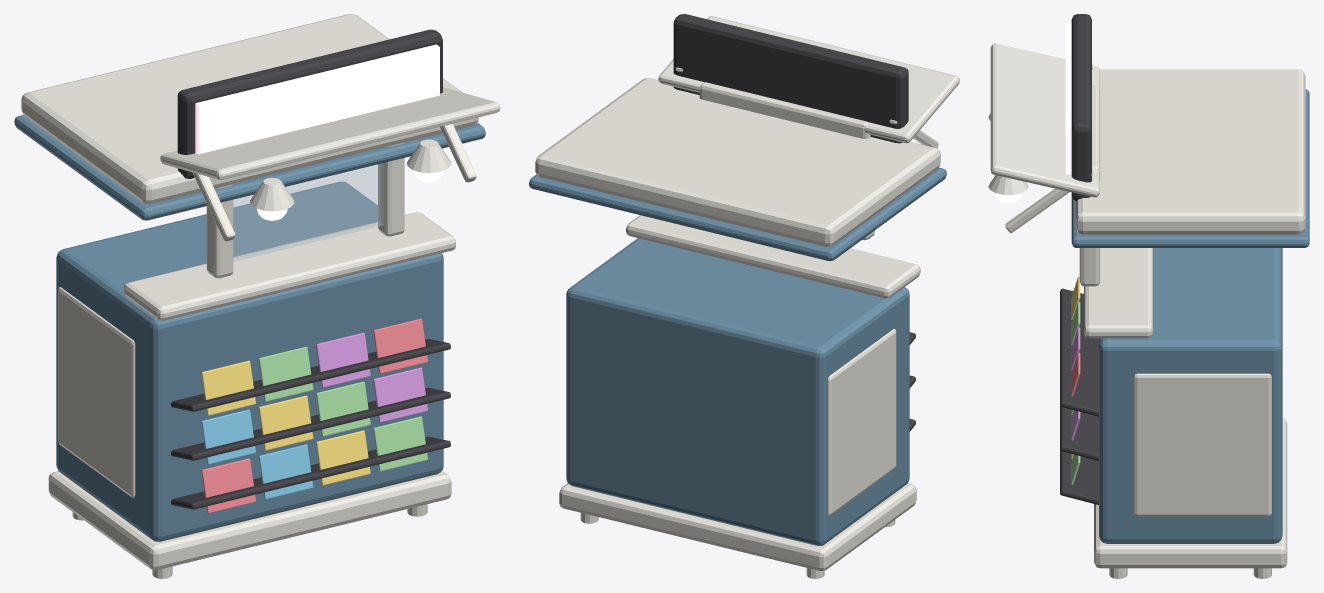
The model's file is prop_newsstand.glb.
The picture shows the model from 3 angles, left to right: view 1: azimuth 30°, elevation 25°; view 2: azimuth 150°, elevation 25°; view 3: azimuth 270°, elevation 25°; orthographic projection. The views are drawn at different scales.
Visible parts, largest first — view 1: prop_newsstand_cabinet, prop_newsstand_roof, prop_newsstand_counter, prop_newsstand_sign_face, prop_newsstand_side_panel_l, prop_newsstand_plinth, prop_newsstand_awning, prop_newsstand_hatch_glass, prop_newsstand_fascia, prop_newsstand_sign_box, prop_newsstand_shelf_0, prop_newsstand_shelf_1 (+19 smaller); view 2: prop_newsstand_cabinet, prop_newsstand_roof, prop_newsstand_sign_box, prop_newsstand_side_panel_l, prop_newsstand_plinth, prop_newsstand_counter, prop_newsstand_fascia, prop_newsstand_awning, prop_newsstand_hatch_head; view 3: prop_newsstand_roof, prop_newsstand_cabinet, prop_newsstand_side_panel_r, prop_newsstand_awning, prop_newsstand_plinth, prop_newsstand_counter, prop_newsstand_fascia, prop_newsstand_sign_box, prop_newsstand_shelf_2, prop_newsstand_shelf_0, prop_newsstand_shelf_1, prop_newsstand_sign_face (+4 smaller).
Boxes of the visible parts, x1,y1,x2,y2 form: prop_newsstand_cabinet: (56,181,443,541); prop_newsstand_roof: (21,14,478,204); prop_newsstand_counter: (124,212,455,320); prop_newsstand_sign_face: (195,44,439,154); prop_newsstand_side_panel_l: (58,287,135,497); prop_newsstand_plinth: (48,470,451,569); prop_newsstand_awning: (160,87,500,179); prop_newsstand_hatch_glass: (233,163,383,261); prop_newsstand_fascia: (14,115,485,220); prop_newsstand_sign_box: (177,29,442,178); prop_newsstand_shelf_0: (171,436,450,509); prop_newsstand_shelf_1: (171,387,450,460); prop_newsstand_cabinet: (566,238,909,545); prop_newsstand_roof: (535,78,940,246); prop_newsstand_sign_box: (673,14,908,143); prop_newsstand_side_panel_l: (828,329,896,515); prop_newsstand_plinth: (559,483,916,570); prop_newsstand_counter: (626,215,920,298); prop_newsstand_fascia: (529,167,946,261); prop_newsstand_awning: (658,16,959,143); prop_newsstand_hatch_head: (699,82,870,138); prop_newsstand_roof: (1075,69,1305,234); prop_newsstand_cabinet: (1099,248,1282,543); prop_newsstand_side_panel_r: (1134,373,1271,516); prop_newsstand_awning: (990,43,1099,197); prop_newsstand_plinth: (1094,418,1287,568); prop_newsstand_counter: (1084,248,1152,338); prop_newsstand_fascia: (1071,89,1309,247); prop_newsstand_sign_box: (1071,14,1091,200); prop_newsstand_shelf_2: (1060,288,1098,416); prop_newsstand_shelf_0: (1060,450,1098,504); prop_newsstand_shelf_1: (1060,405,1098,460); prop_newsstand_sign_face: (1065,23,1071,192).
Bounding box in the file's own units: 1.77 × 2.44 × 1.58.
